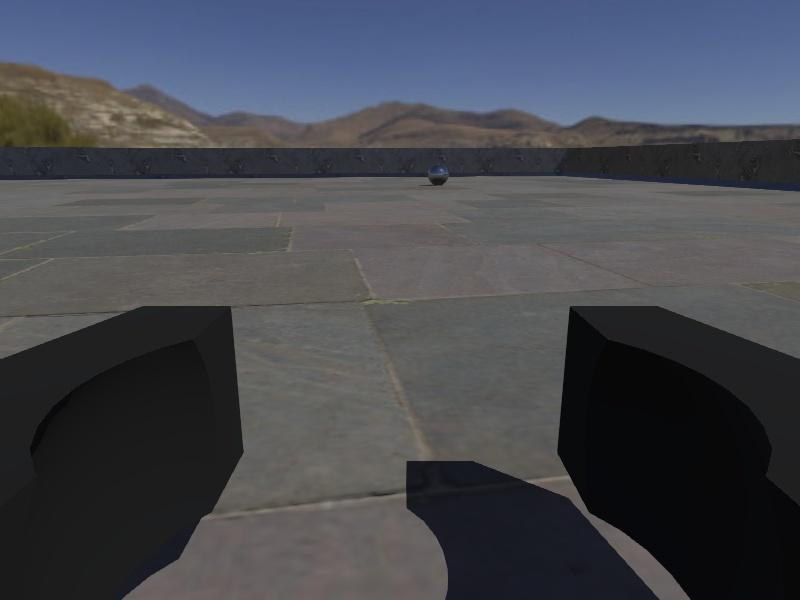steel ball: (427, 162, 450, 187)
